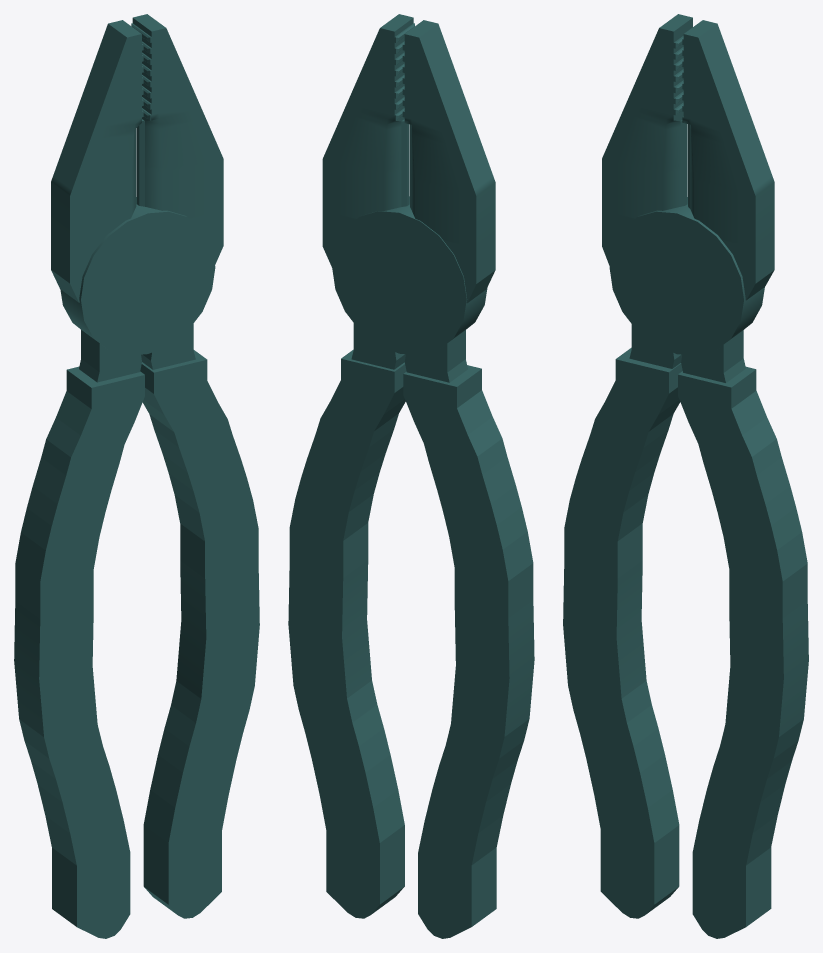
Rendered from Alicate low.fbx.
3 renders of one model, left to right at view 1: azimuth 30°, elevation 25°; view 2: azimuth 150°, elevation 25°; view 3: azimuth 330°, elevation 25°, orthographic.
Visible parts, largest first — view 1: alicate_04_low, alicate_06_low, alicate_02_low, alicate_01_low, alicate_03_low, alicate_05_low, alicate_07_low; view 2: alicate_04_low, alicate_06_low, alicate_02_low, alicate_01_low, alicate_03_low, alicate_05_low, alicate_07_low; view 3: alicate_06_low, alicate_04_low, alicate_03_low, alicate_01_low, alicate_02_low, alicate_07_low, alicate_05_low.
Boxes of the visible parts, x1,y1,x2,y2 form: alicate_04_low: (14, 366, 144, 938); alicate_06_low: (140, 350, 259, 918); alicate_02_low: (51, 20, 143, 302); alicate_01_low: (60, 197, 215, 355); alicate_03_low: (131, 14, 223, 264); alicate_05_low: (79, 330, 141, 382); alicate_07_low: (141, 324, 195, 369); alicate_04_low: (403, 365, 534, 938); alicate_06_low: (288, 349, 406, 918); alicate_02_low: (402, 20, 495, 303); alicate_01_low: (332, 196, 487, 355); alicate_03_low: (322, 14, 414, 266); alicate_05_low: (404, 330, 467, 382); alicate_07_low: (351, 323, 405, 369); alicate_06_low: (678, 366, 808, 938); alicate_04_low: (563, 347, 682, 918); alicate_03_low: (682, 20, 774, 300); alicate_01_low: (609, 197, 764, 355); alicate_02_low: (602, 14, 692, 265); alicate_07_low: (681, 330, 745, 382); alicate_05_low: (629, 324, 681, 368).
Bounding box in the file's own units: 10.11 × 39.07 × 1.98.
